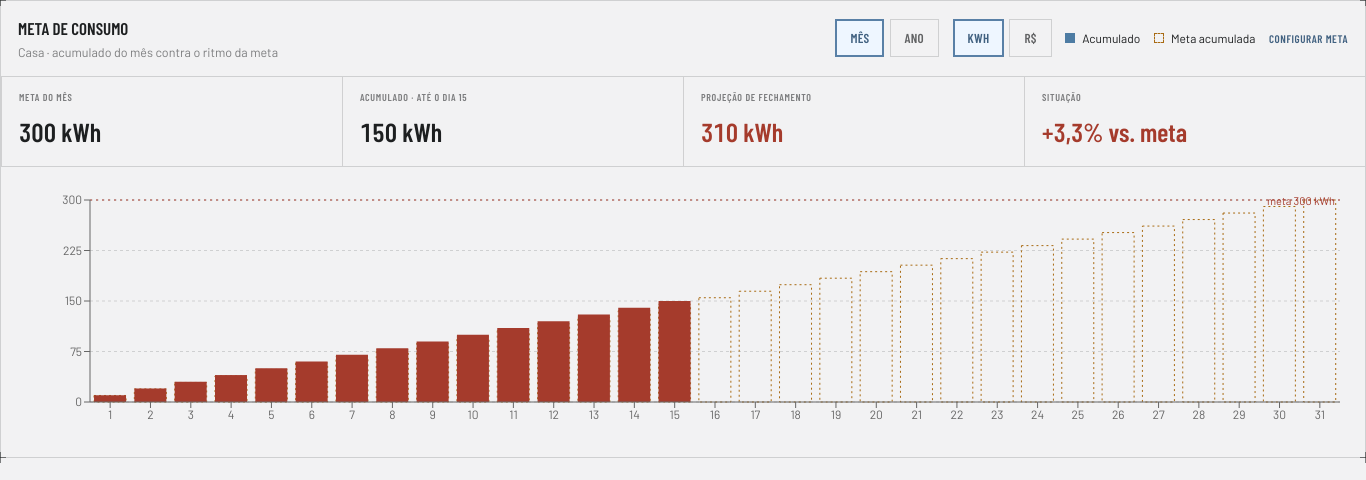
GoalSection — Ano › mês sem leitura fica '-' na tabela e fora do acumulado
The width and height of the screenshot is (1366, 480).
Check: the text "Acumulado · até o dia 15" is shown, box [360,91,467,103]
Click the button with test id "goal-period-year" at (914, 38), box [890,19,939,57]
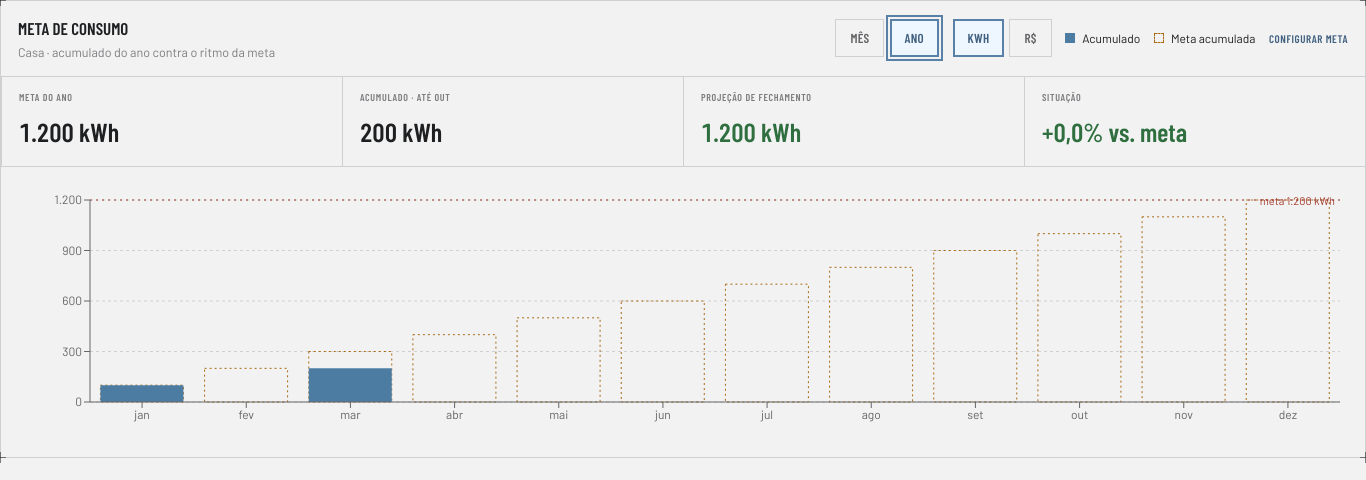
Check: the text "200 kWh" is shown, box [360,116,442,148]
Check: the text "1.200 kWh" below "Projeção de fechamento" is shown, box [701,116,801,148]
